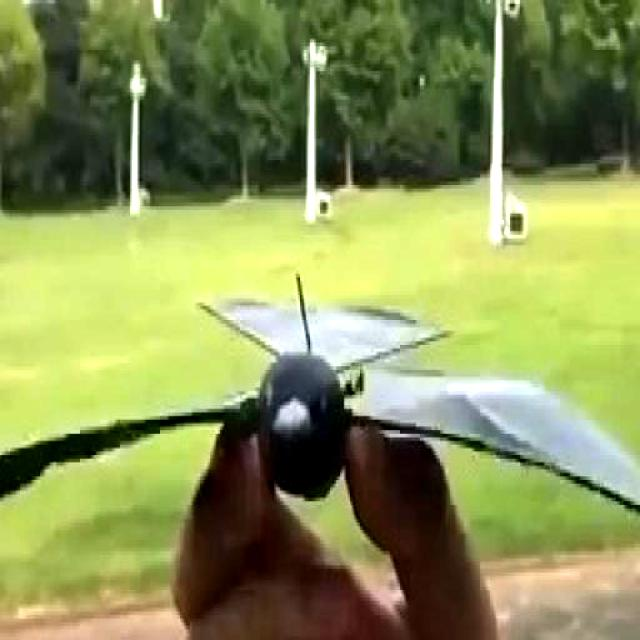airplane: (0, 259, 640, 640)
